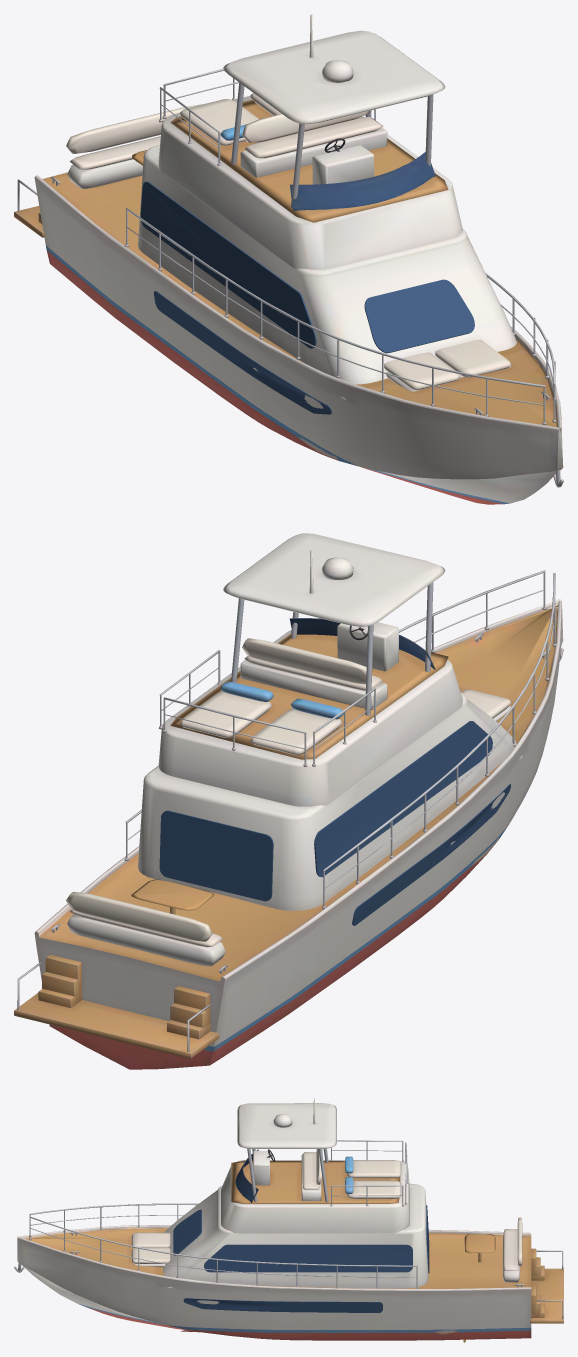
Rendered from yacht.glb.
3 views of the same model, one above another, from view 1: azimuth 30°, elevation 25°; view 2: azimuth 150°, elevation 25°; view 3: azimuth 270°, elevation 25° (orthographic). The views are drawn at different scales.
Visible parts, largest first — view 1: yacht_body, yacht_hull_windows; view 2: yacht_body, yacht_hull_windows; view 3: yacht_body, yacht_hull_windows.
Part boxes in pixels (x1,y1,x2,y2): yacht_body: (14,14,563,504); yacht_hull_windows: (140,181,474,414); yacht_body: (14,533,563,1069); yacht_hull_windows: (159,721,510,925); yacht_body: (14,1098,563,1340); yacht_hull_windows: (173,1205,429,1312).
Bounding box in the file's own units: 5.03 × 9.03 × 19.26.
Materials: 4 (1 with a texture image).
